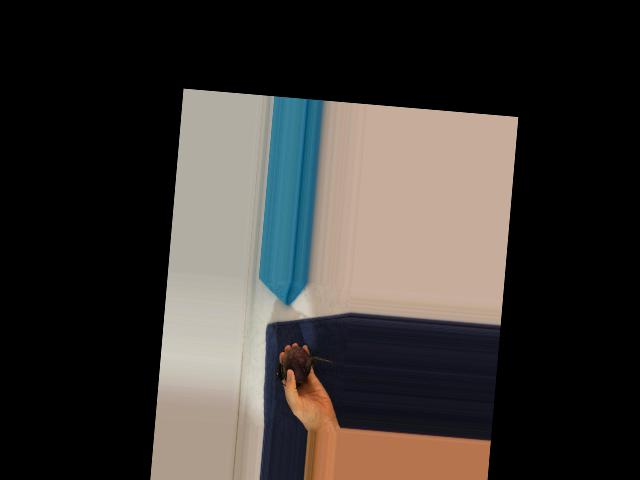beet: (275, 344, 335, 390)
